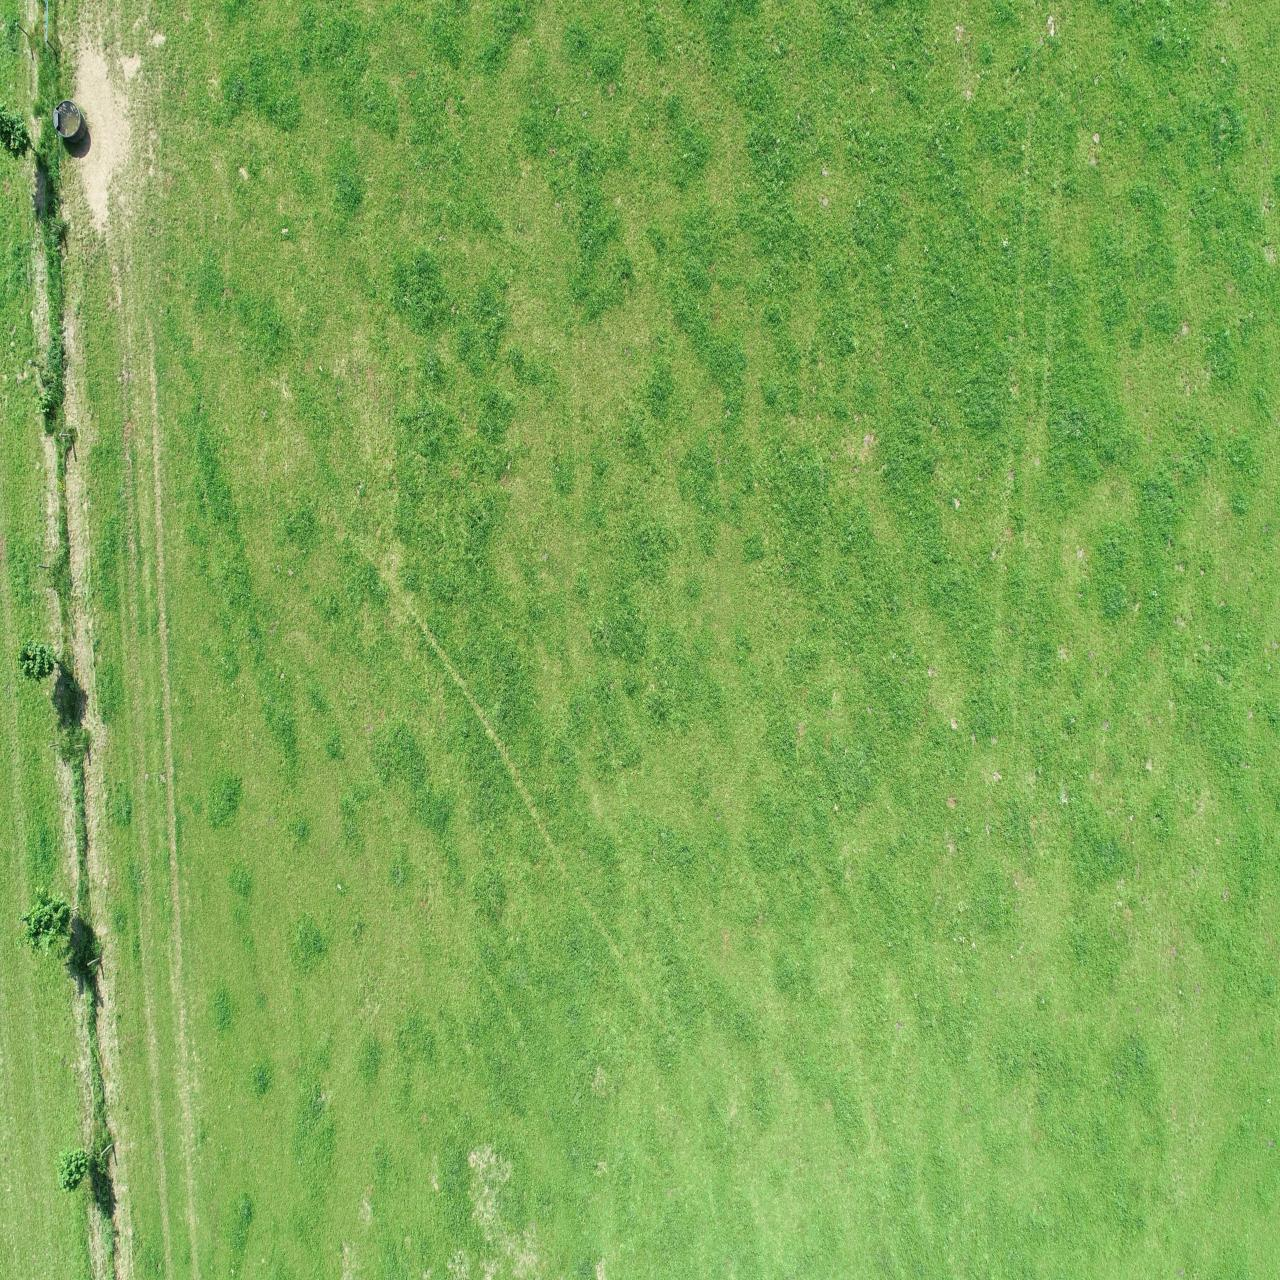cow: (60, 900, 82, 958), (635, 1231, 661, 1280), (628, 1187, 659, 1227), (245, 1048, 270, 1095), (641, 987, 659, 1053)
